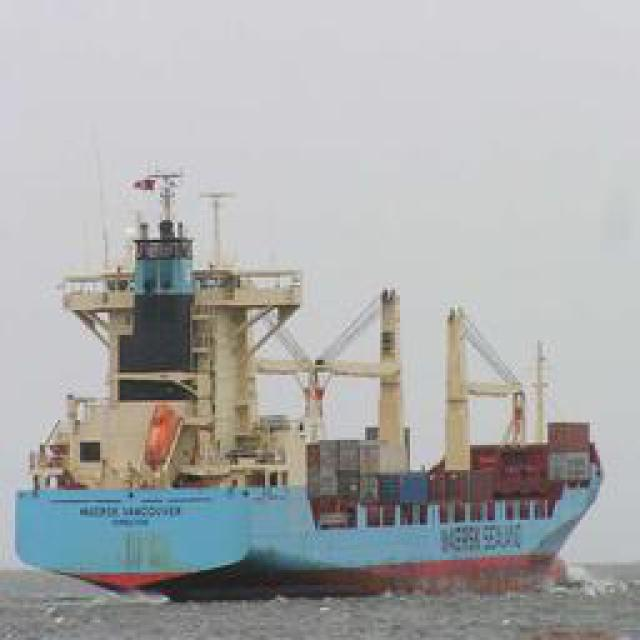Ship: (29, 268, 609, 606)
